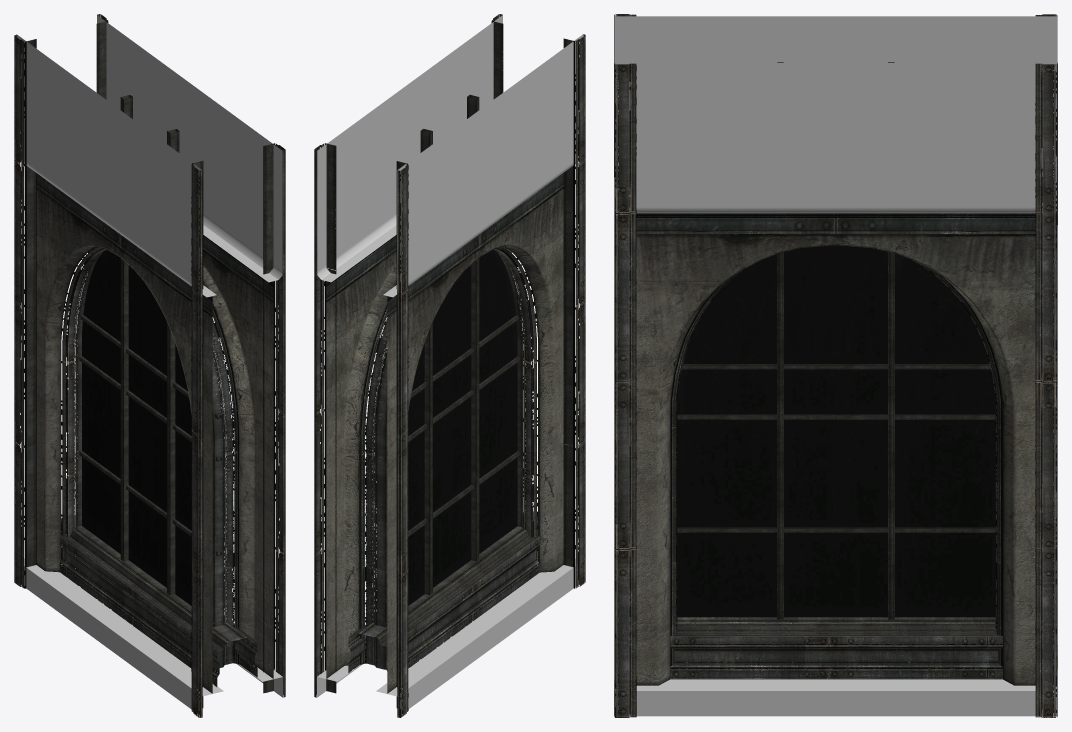
File: tesla_modules1_wall_arch_glass.dae
3 views of the same model, side by side, from view 1: azimuth 30°, elevation 25°; view 2: azimuth 150°, elevation 25°; view 3: azimuth 270°, elevation 25° (orthographic). The views are drawn at different scales.
Parts seen in each view (by area): view 1: wall_arch_metal, wall_arch_stone, wall_arch_arch, wall_arch_metal1; view 2: wall_arch_metal, wall_arch_stone, wall_arch_arch, wall_arch_metal1; view 3: wall_arch_metal1, wall_arch_stone, wall_arch_metal, wall_arch_arch.
Part boxes in pixels (bbox=[...]): wall_arch_metal: bbox=[14, 14, 285, 717]; wall_arch_stone: bbox=[17, 15, 282, 714]; wall_arch_arch: bbox=[27, 173, 273, 693]; wall_arch_metal1: bbox=[82, 250, 214, 607]; wall_arch_metal: bbox=[314, 14, 585, 717]; wall_arch_stone: bbox=[317, 15, 582, 709]; wall_arch_arch: bbox=[326, 173, 572, 693]; wall_arch_metal1: bbox=[385, 249, 517, 611]; wall_arch_metal1: bbox=[677, 245, 995, 617]; wall_arch_stone: bbox=[614, 16, 1057, 716]; wall_arch_metal: bbox=[614, 14, 1057, 717]; wall_arch_arch: bbox=[615, 213, 1056, 685].
Size of what is drawn, in the model's own units: 1.07 by 6.5 by 4.
